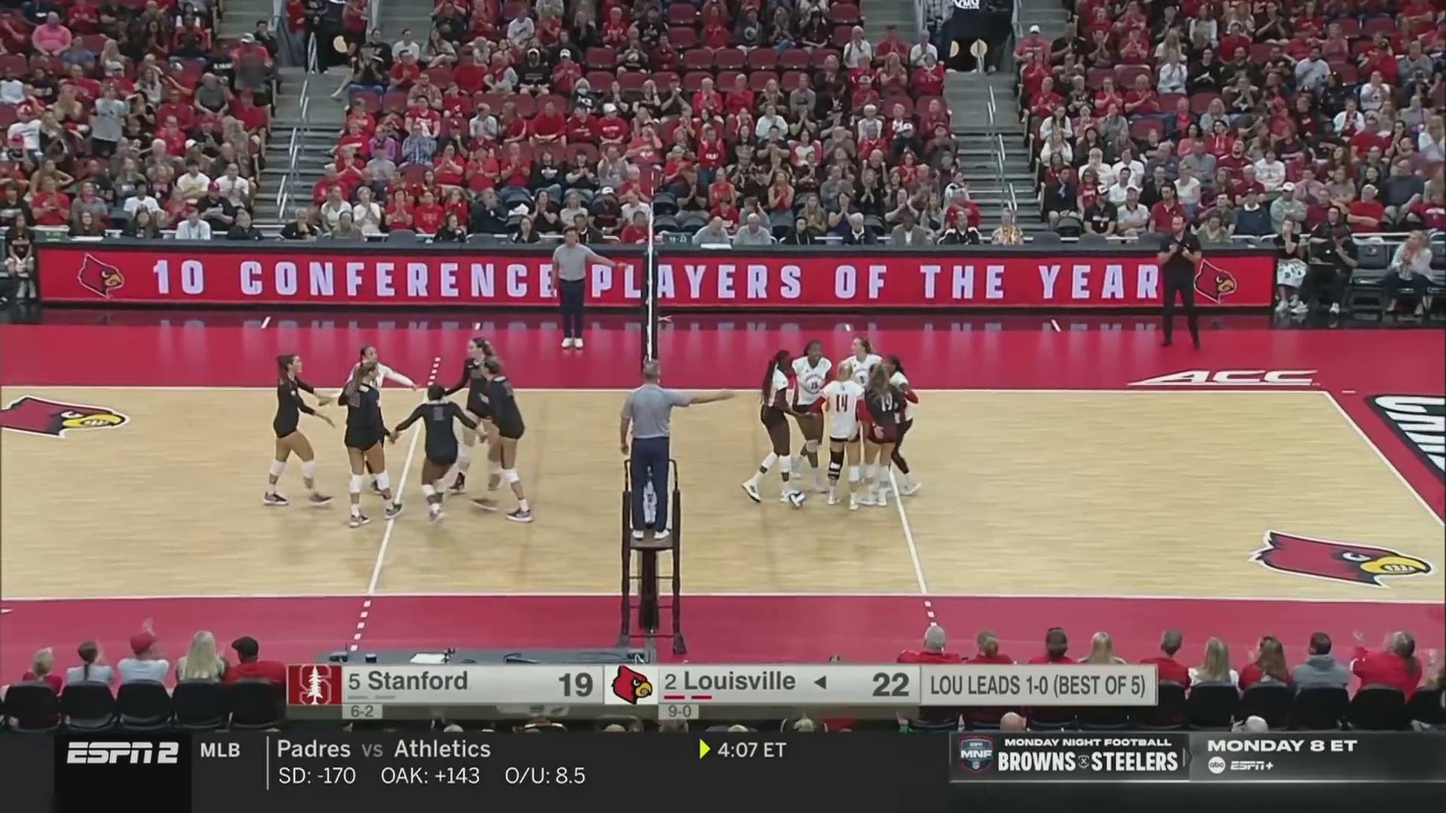player: (396, 382, 485, 523), (449, 338, 516, 496), (343, 363, 405, 525), (470, 355, 530, 521), (269, 358, 332, 512), (345, 347, 408, 501), (743, 350, 802, 506), (787, 345, 838, 494), (838, 335, 886, 490), (818, 364, 864, 512), (857, 365, 901, 508), (877, 356, 922, 494)
refree: (616, 371, 721, 534), (545, 231, 615, 351)
